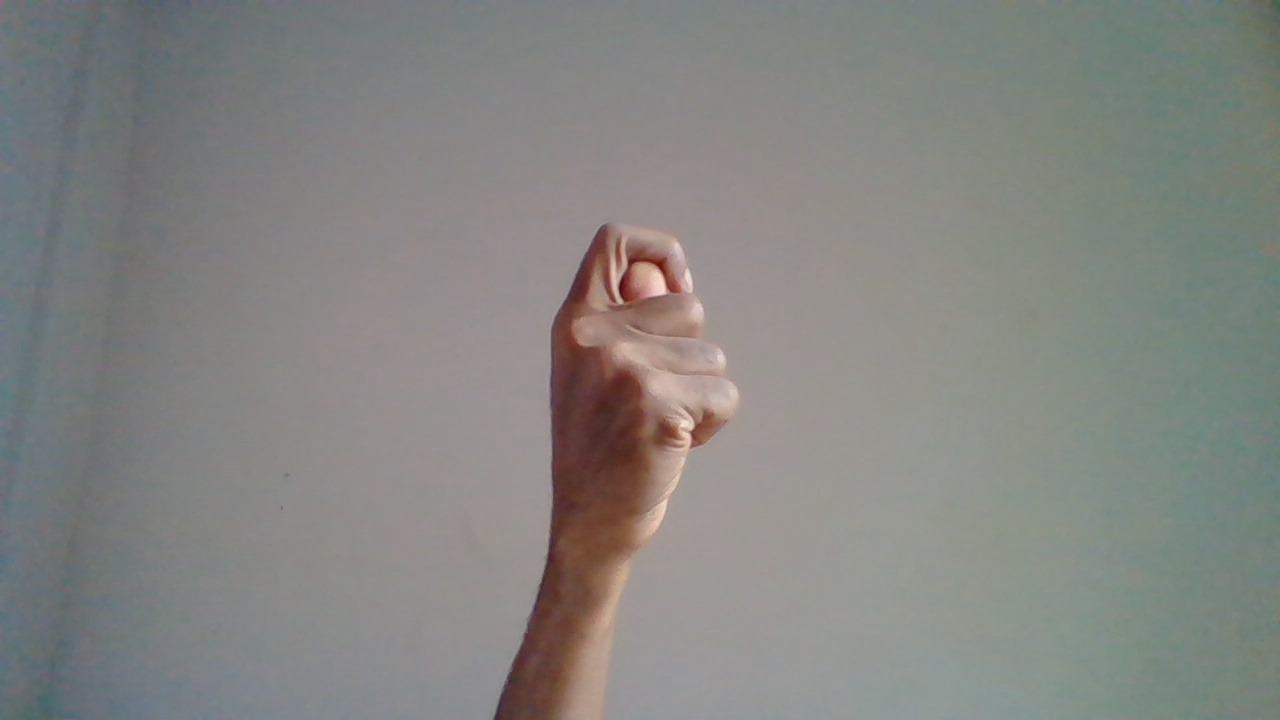che: (548, 221, 731, 663)
